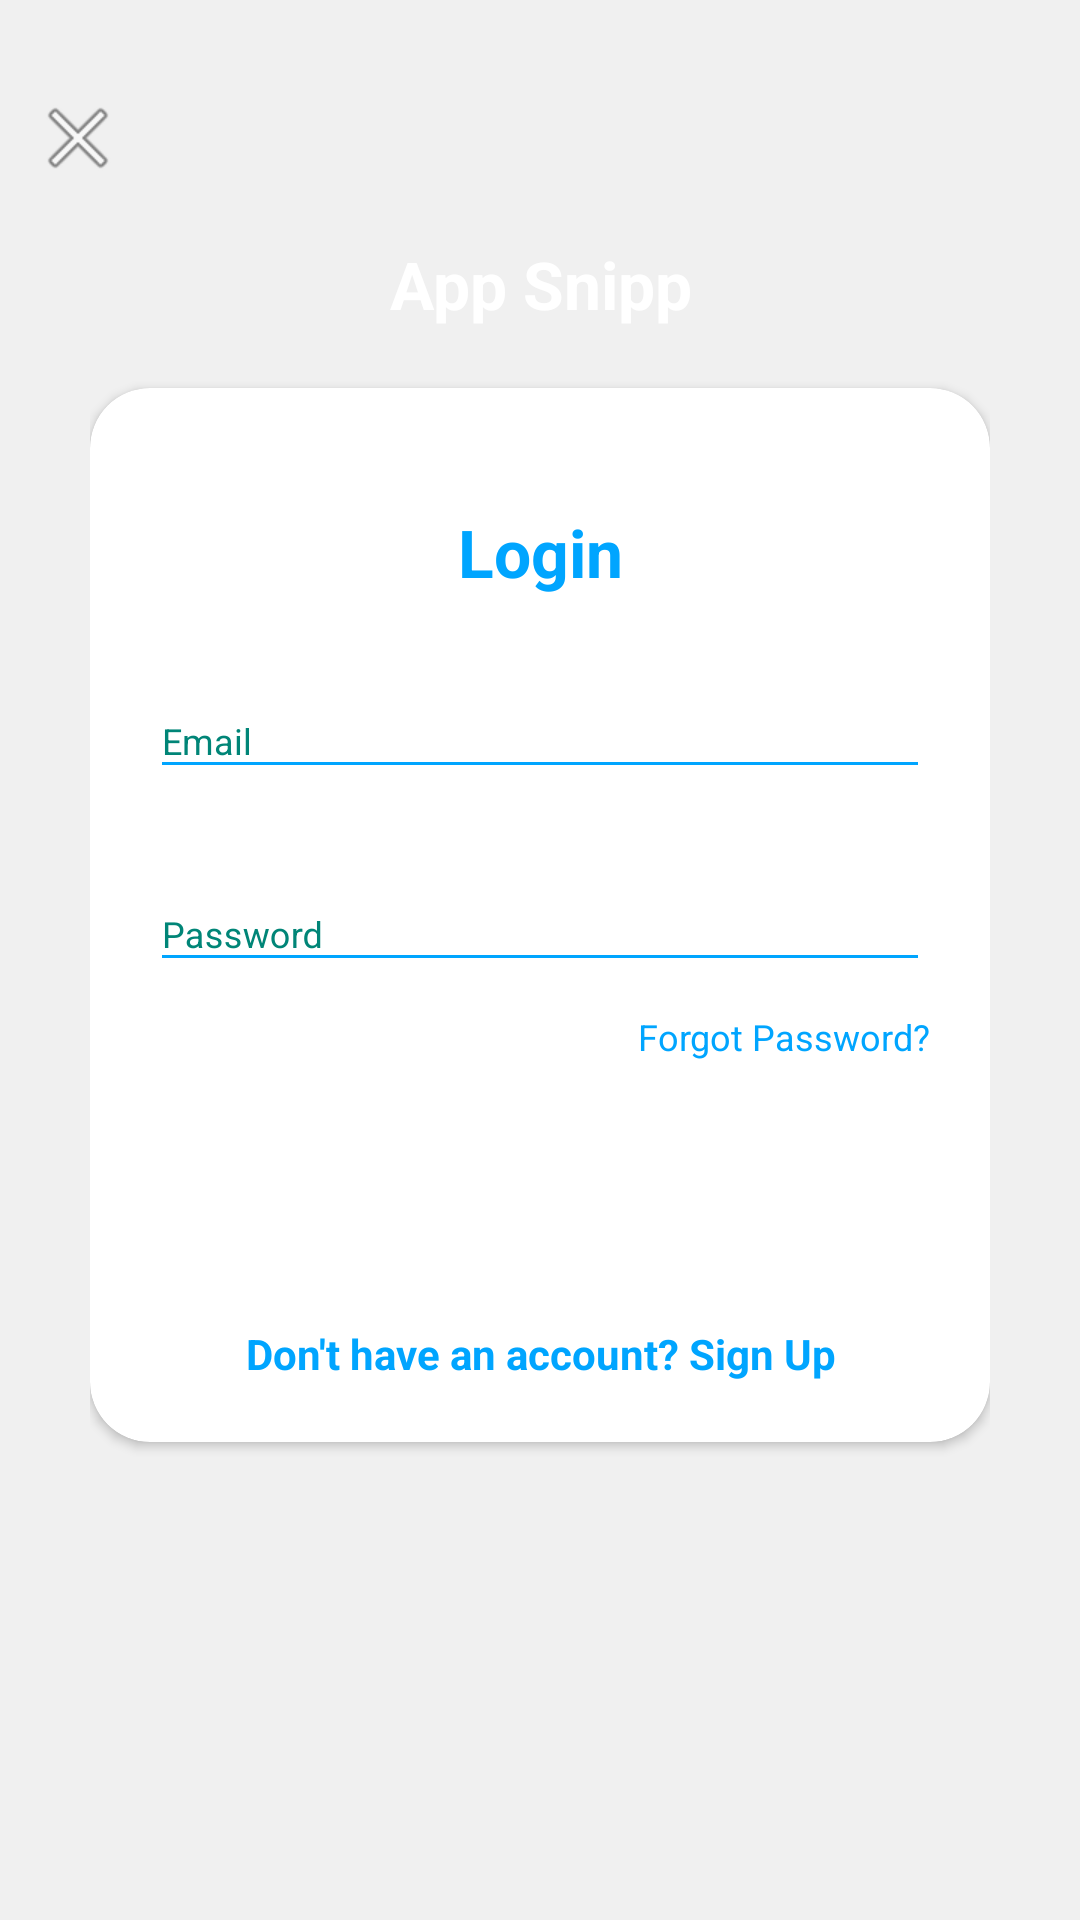

Icon click points for this 1080*1920 phone screenshot, format (x,y):
close clear cancel: (78,138)
